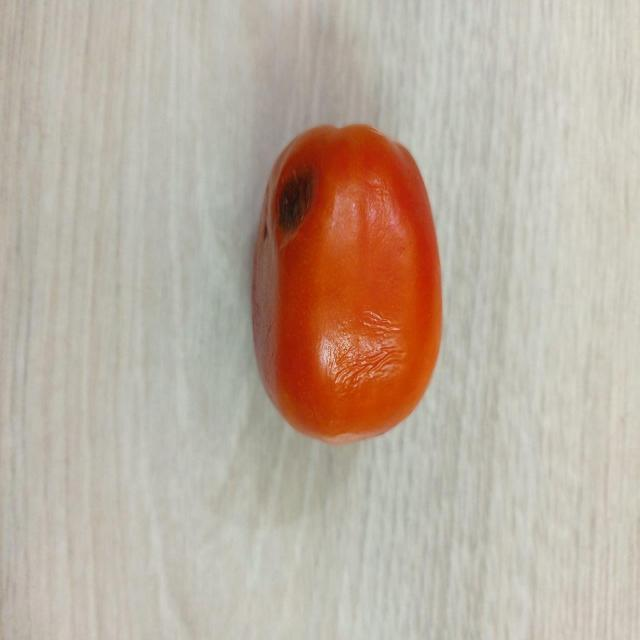Rotten: (252, 122, 444, 442)
